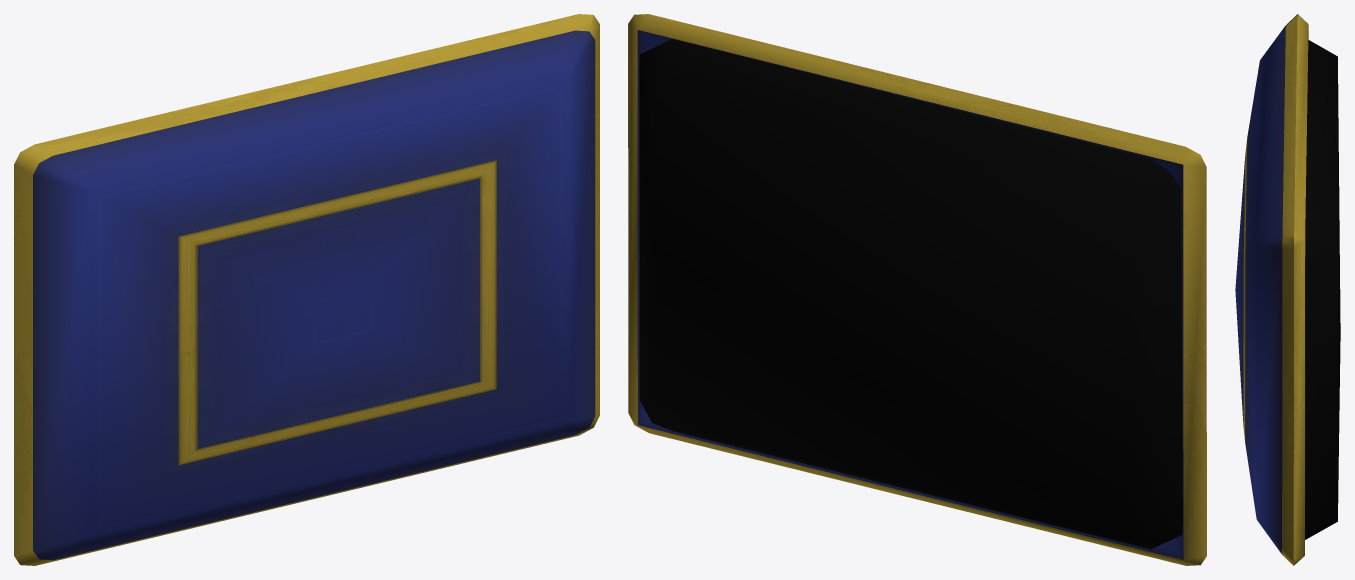
File: board.glb
3 renders of one model, left to right at view 1: azimuth 30°, elevation 25°; view 2: azimuth 150°, elevation 25°; view 3: azimuth 270°, elevation 25°, orthographic. The views are drawn at different scales.
Visible parts, largest first — view 1: node_BigBoard_Art; view 2: Board.001, node_BigBoard_Art; view 3: node_BigBoard_Art, Board.001.
Part boxes in pixels (x1,y1,x2,y2): node_BigBoard_Art: (14, 14, 599, 565); Board.001: (639, 39, 1182, 549); node_BigBoard_Art: (628, 14, 1206, 565); node_BigBoard_Art: (1235, 14, 1308, 565); Board.001: (1305, 40, 1340, 539).
Size of the model in its own units: 4.65 by 3.21 by 0.909.
2 materials, 2 textured.
